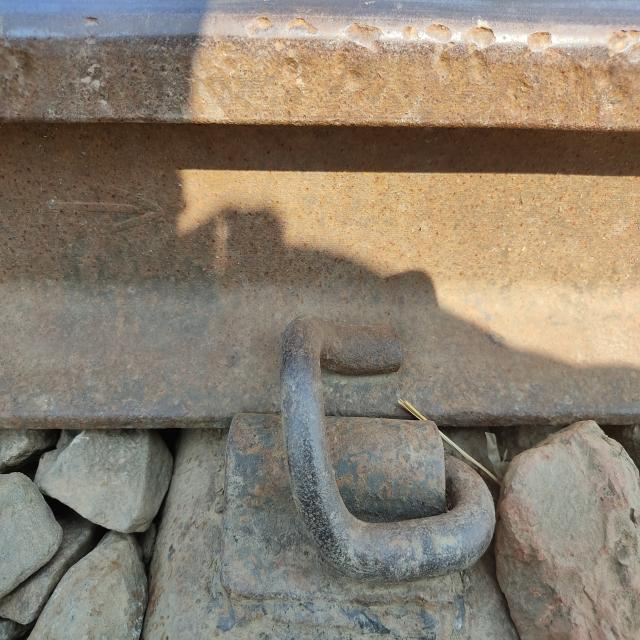No Fault: (236, 305, 494, 612)
